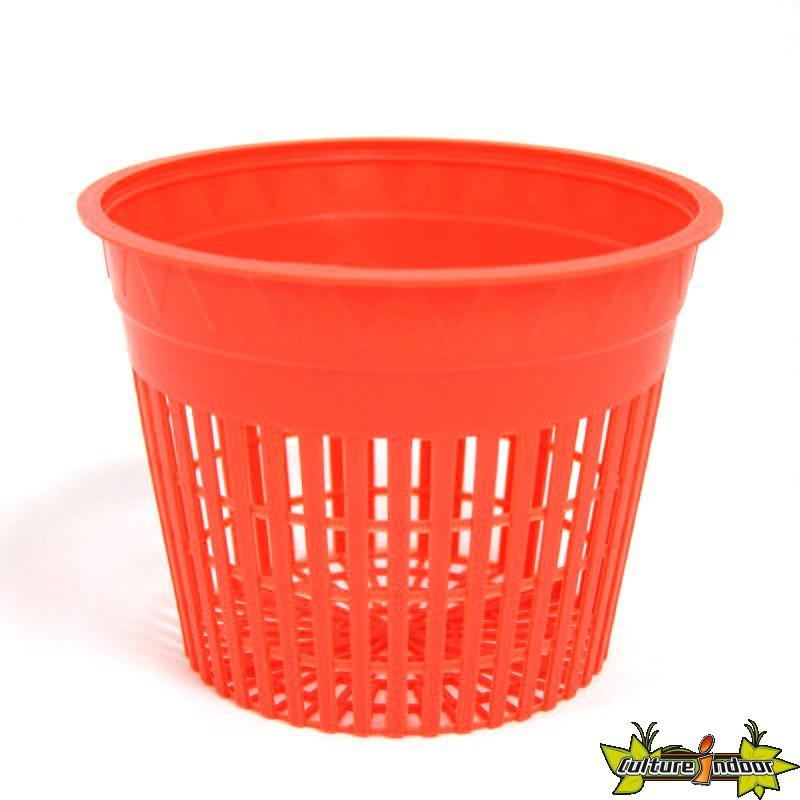basket: (54, 122, 719, 735)
